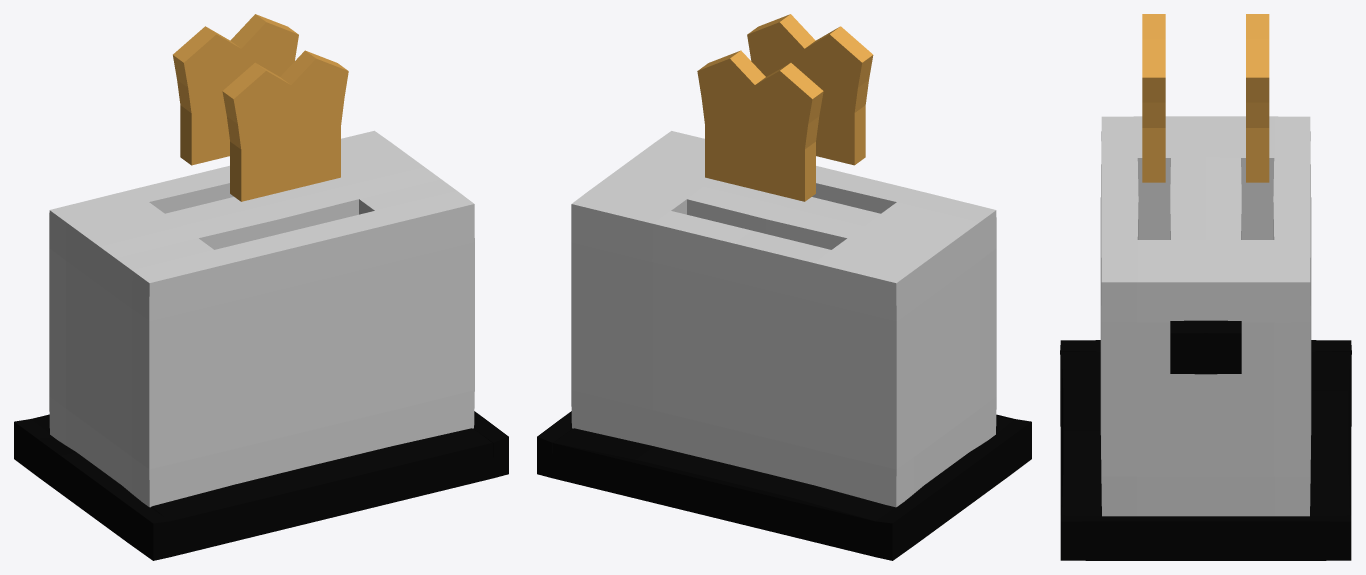
File: Toaster1.fbx
3 views of the same model, side by side, from view 1: azimuth 30°, elevation 25°; view 2: azimuth 150°, elevation 25°; view 3: azimuth 270°, elevation 25° (orthographic). The views are drawn at different scales.
Parts seen in each view (by area): view 1: Cube, Cube.002, Cube.001; view 2: Cube, Cube.001, Cube.002; view 3: Cube, Cube.001, Cube.002, Cube.003.
Part boxes in pixels (x1,y1,x2,y2): Cube: [14, 130, 508, 560]; Cube.002: [222, 50, 348, 201]; Cube.001: [173, 14, 298, 165]; Cube: [537, 131, 1031, 560]; Cube.001: [697, 50, 823, 201]; Cube.002: [747, 14, 873, 165]; Cube: [1060, 116, 1351, 560]; Cube.001: [1246, 14, 1269, 182]; Cube.002: [1142, 14, 1165, 182]; Cube.003: [1170, 320, 1241, 374].
Bounding box in the file's own units: 226 × 251 × 150.
